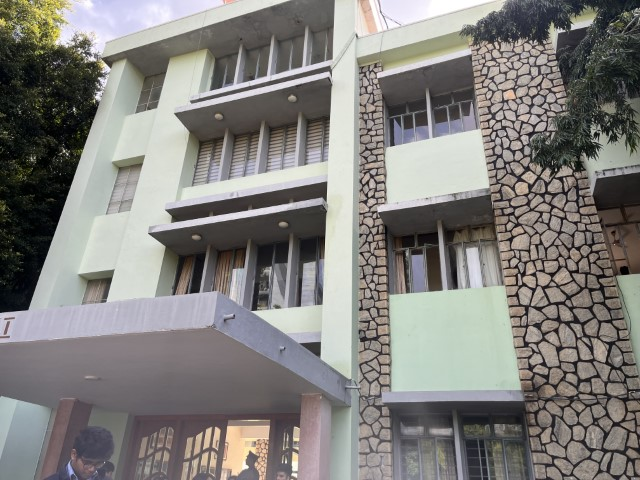Block 1: (69, 16, 640, 480)
